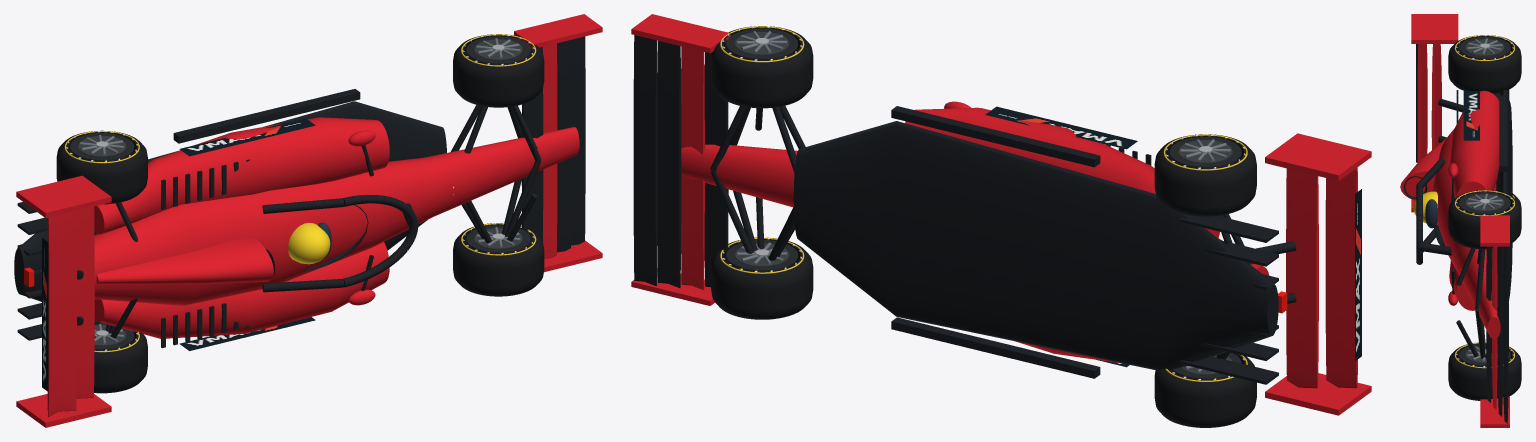
The model's file is formula_car.obj.
The picture shows the model from 3 angles, left to right: view 1: azimuth 30°, elevation 25°; view 2: azimuth 150°, elevation 25°; view 3: azimuth 270°, elevation 25°; orthographic projection. The views are drawn at different scales.
Size of the model in its own units: 5.45 by 2.05 by 1.19.
14 materials, 1 textured.
